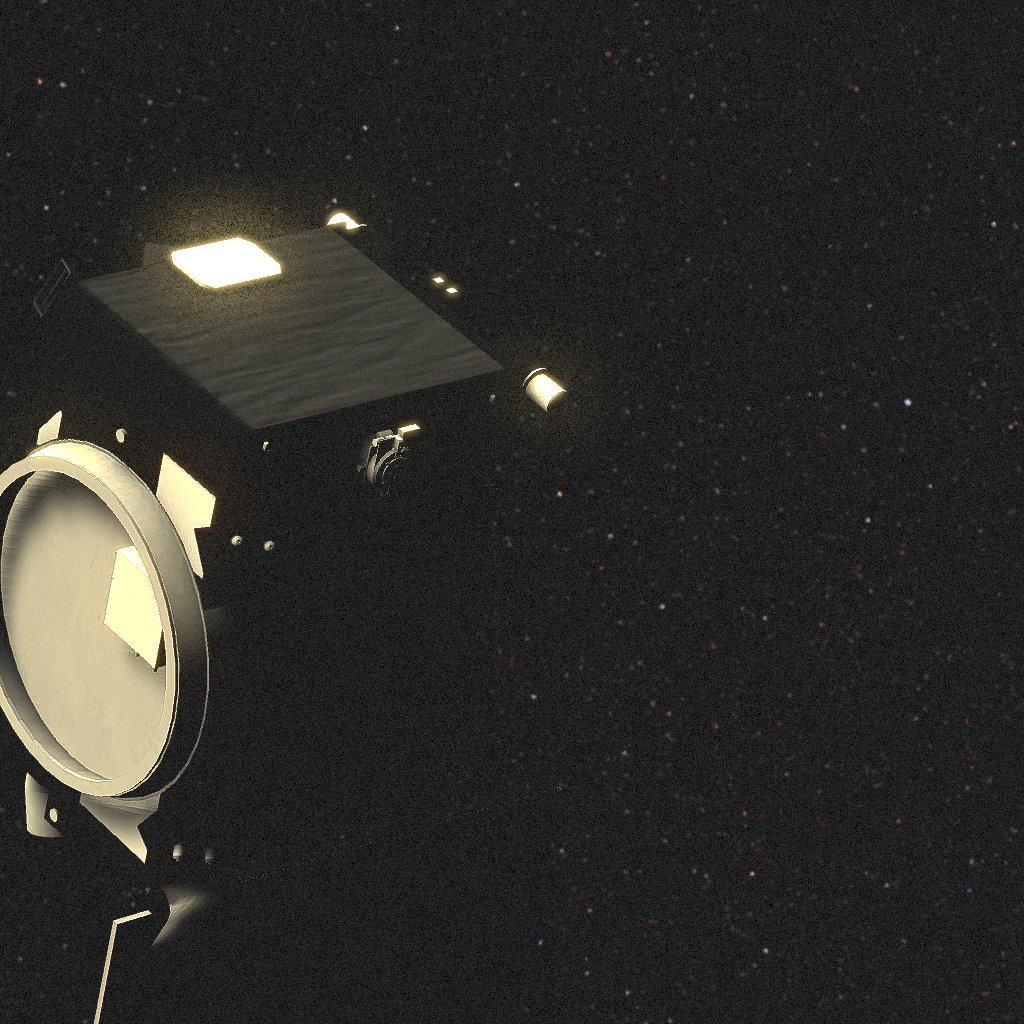proba_3_csc: (0, 213, 570, 1024)
